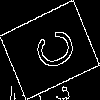C: (25, 25, 79, 78)
